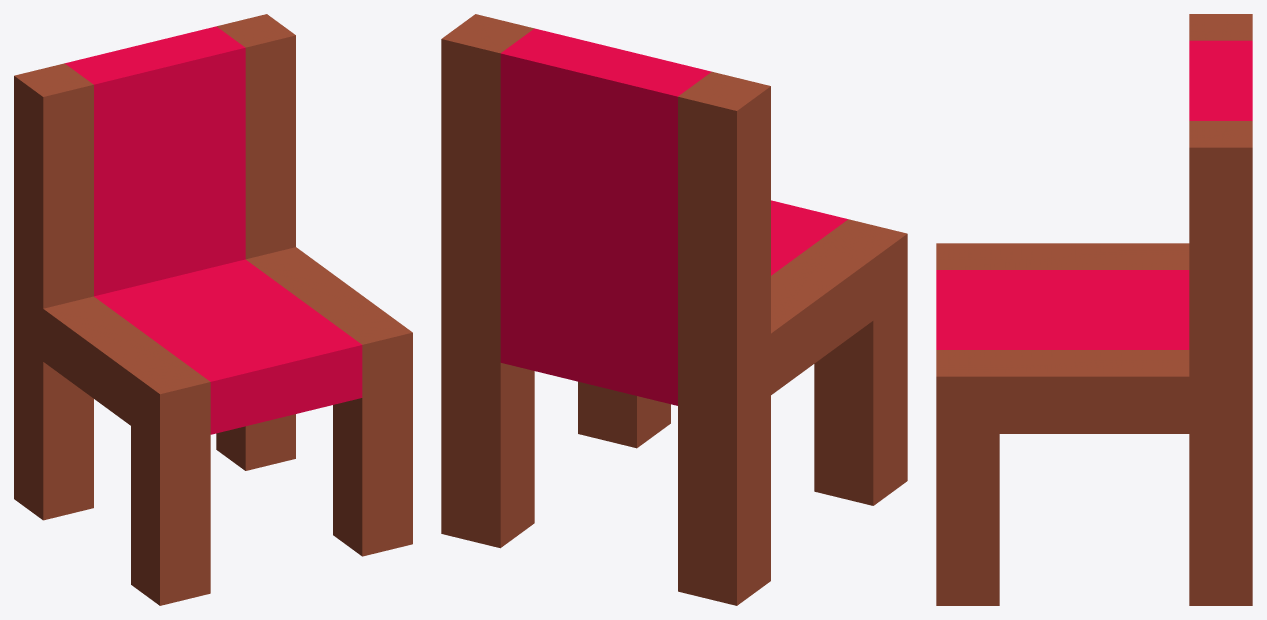
File: chair_a_red.obj
The picture shows the model from 3 angles, left to right: view 1: azimuth 30°, elevation 25°; view 2: azimuth 150°, elevation 25°; view 3: azimuth 270°, elevation 25°; orthographic projection. The views are drawn at different scales.
Bounding box in the file's own units: 0.5 × 0.8 × 0.5.
Materials: 1 (1 with a texture image).
